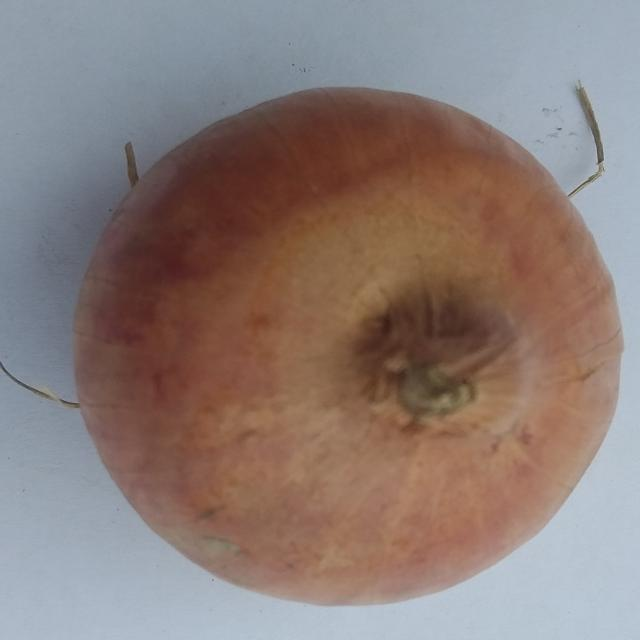onion: (72, 86, 628, 610)
